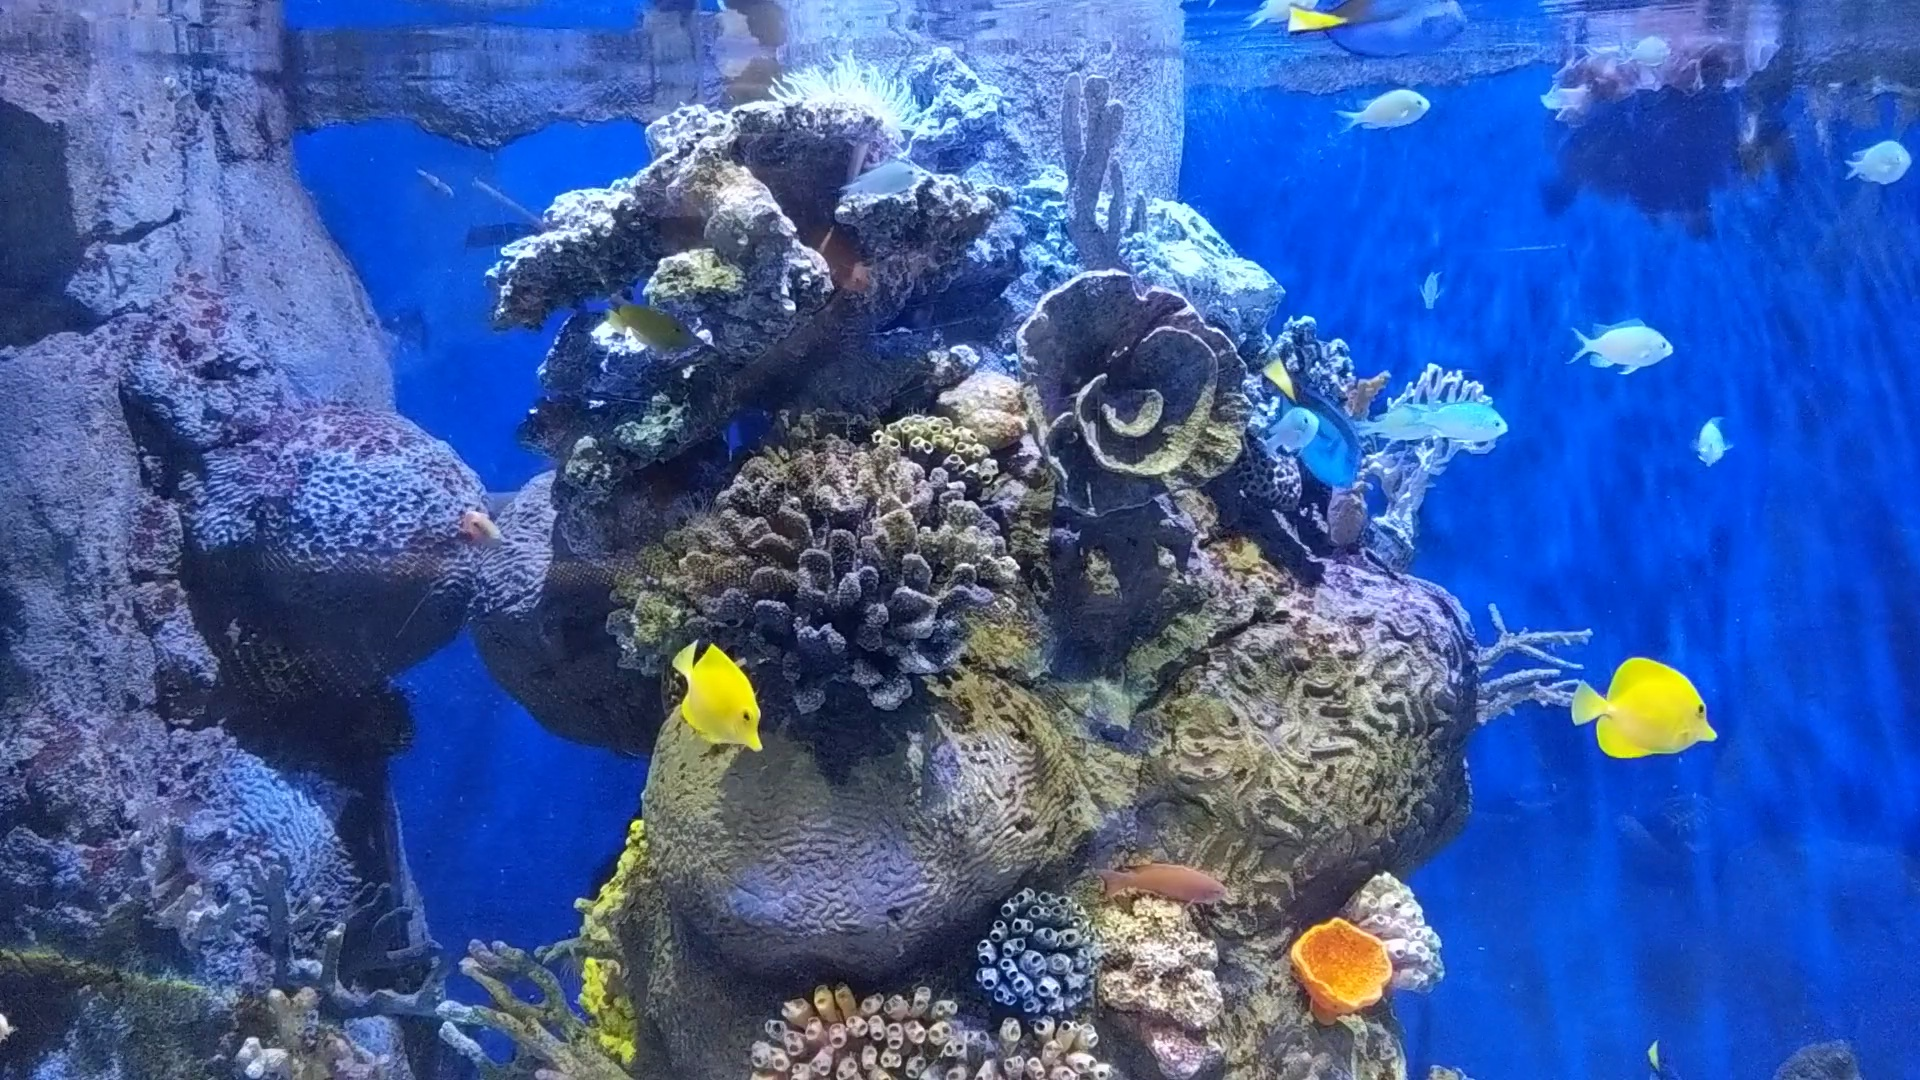blue tang surgeonfish: (1262, 356, 1390, 502), (1280, 0, 1485, 73), (1621, 1026, 1735, 1080)
damselfish: (1535, 320, 1714, 392), (1795, 120, 1920, 203), (1325, 73, 1476, 141), (1385, 251, 1491, 344), (1410, 396, 1534, 473), (1342, 392, 1466, 463), (1675, 414, 1762, 495), (837, 166, 942, 229), (1244, 407, 1325, 469), (1615, 32, 1697, 86), (1232, 0, 1335, 36)
saddle butterfly fish: (1551, 637, 1731, 765), (637, 632, 796, 767), (575, 278, 709, 392)
